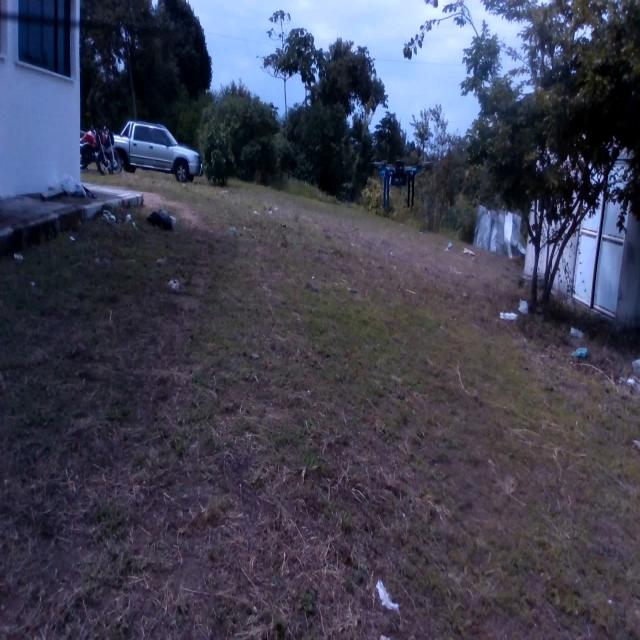-uav-: (367, 147, 436, 218)
